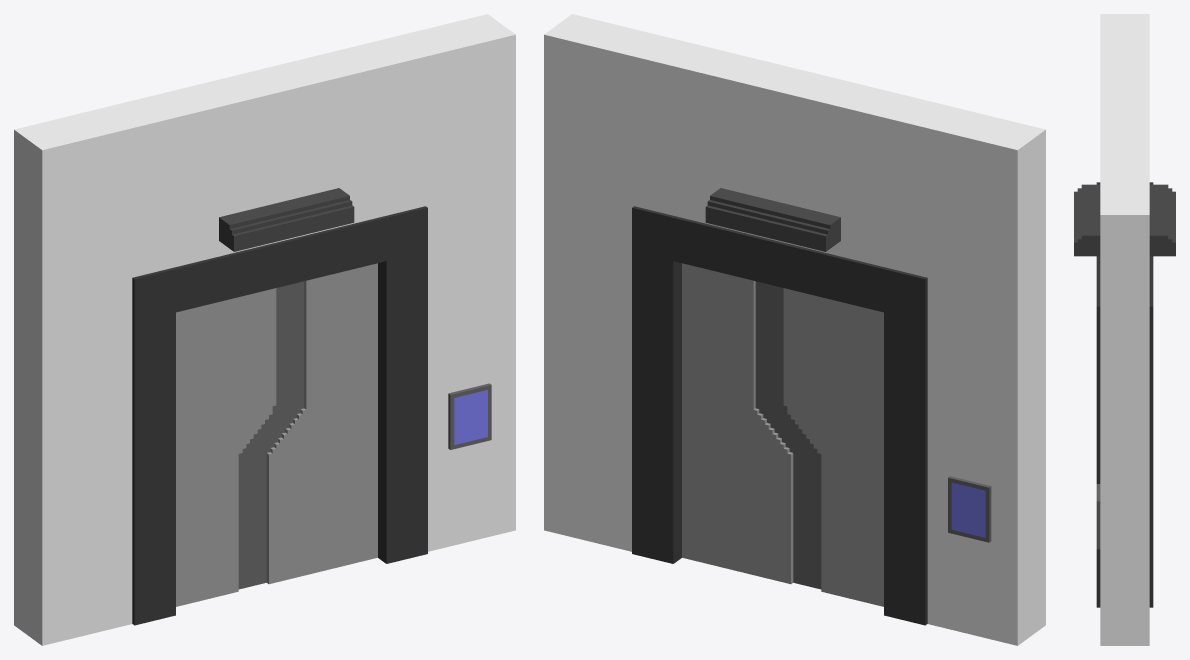
Rendered from Operating_room_Door6-1.fbx.
The picture shows the model from 3 angles, left to right: view 1: azimuth 30°, elevation 25°; view 2: azimuth 150°, elevation 25°; view 3: azimuth 270°, elevation 25°; orthographic projection. The views are drawn at different scales.
Visible parts, largest first — view 1: Operating room Door6-1.001, Operating room Door6-1.006, Operating room Door6-1.005, Operating room Door6-1.007; view 2: Operating room Door6-1.001, Operating room Door6-1.006, Operating room Door6-1.005, Operating room Door6-1.004; view 3: Operating room Door6-1.001.
Boxes of the visible parts, x1,y1,x2,y2 form: Operating room Door6-1.001: (14,14,515,645); Operating room Door6-1.006: (251,263,377,586); Operating room Door6-1.005: (176,285,289,606); Operating room Door6-1.007: (454,390,487,444); Operating room Door6-1.001: (544,14,1045,645); Operating room Door6-1.006: (682,263,808,586); Operating room Door6-1.005: (770,285,883,606); Operating room Door6-1.004: (951,482,985,537); Operating room Door6-1.001: (1074,14,1175,645).
Bounding box in the file's own units: 1260 × 1260 × 270.
